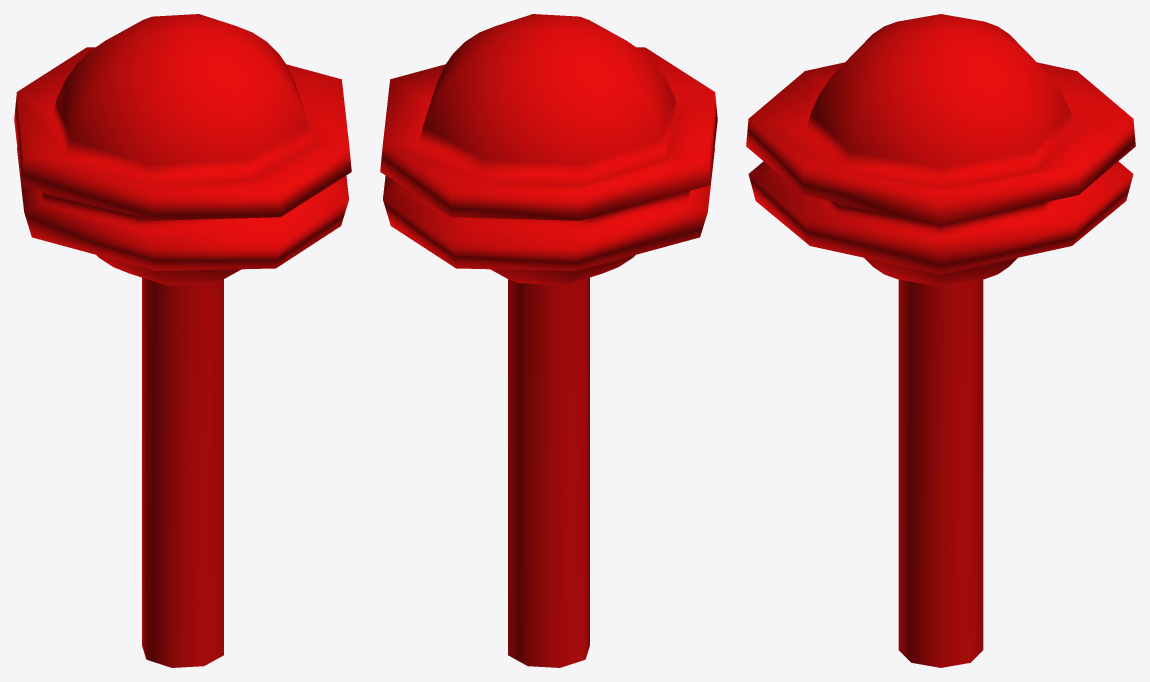
The model's file is mdl_Corredor_Torre_Esfera.fbx.
3 renders of one model, left to right at view 1: azimuth 30°, elevation 25°; view 2: azimuth 150°, elevation 25°; view 3: azimuth 270°, elevation 25°, orthographic.
Parts seen in each view (by area): view 1: mdl_Corredor_Torre_Esfera; view 2: mdl_Corredor_Torre_Esfera; view 3: mdl_Corredor_Torre_Esfera.
Part boxes in pixels (x1,y1,x2,y2): mdl_Corredor_Torre_Esfera: (14,14,351,667); mdl_Corredor_Torre_Esfera: (380,14,717,667); mdl_Corredor_Torre_Esfera: (746,14,1135,667).
Bounding box in the file's own units: 1.87 × 3.49 × 1.96.
